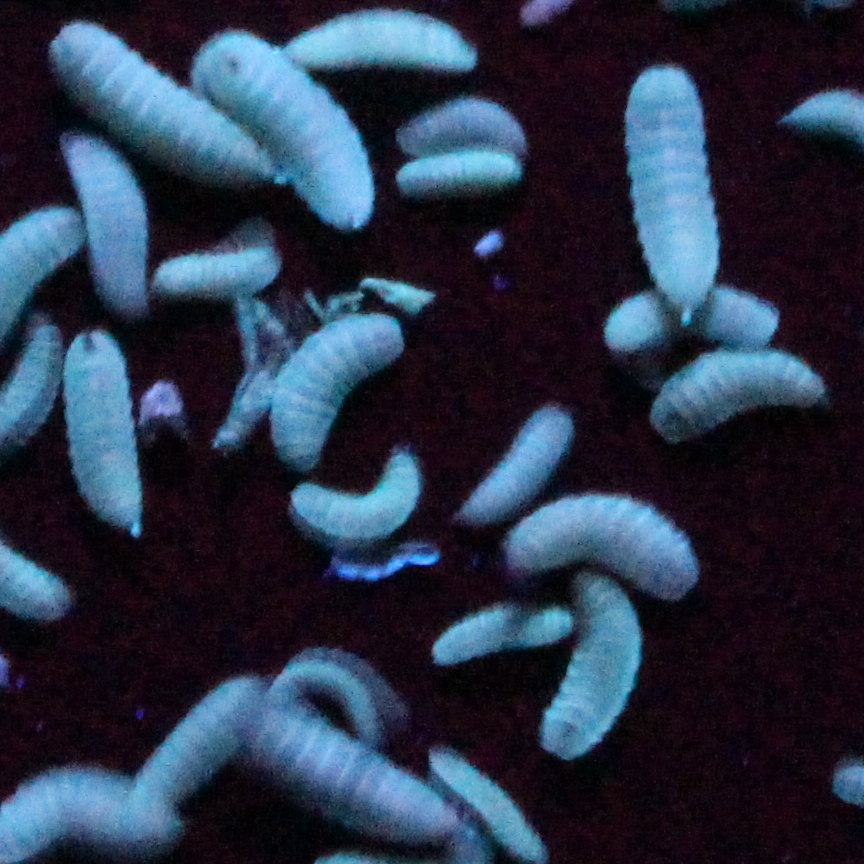larve: (43, 18, 277, 189), (190, 32, 377, 230), (250, 698, 453, 840), (616, 65, 724, 312), (508, 494, 702, 603), (275, 314, 406, 471), (542, 576, 642, 765), (655, 348, 830, 453), (57, 130, 153, 316), (148, 674, 264, 816), (62, 332, 142, 536), (459, 401, 578, 526), (277, 6, 477, 69), (293, 454, 422, 545), (614, 293, 782, 355), (430, 600, 568, 667), (390, 95, 528, 155), (149, 246, 281, 293), (396, 155, 518, 202)
